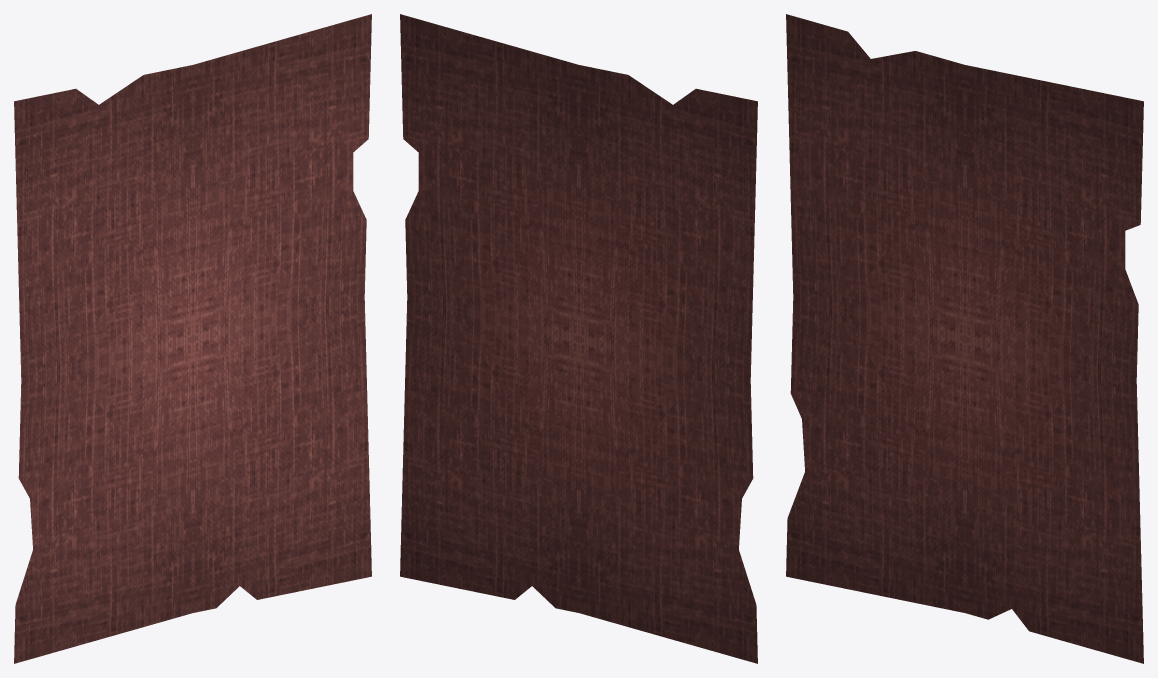
Rendered from Carpet_C.fbx.
The picture shows the model from 3 angles, left to right: view 1: azimuth 30°, elevation 25°; view 2: azimuth 150°, elevation 25°; view 3: azimuth 330°, elevation 25°; orthographic projection.
Visible parts, largest first — view 1: Carpet_C; view 2: Carpet_C; view 3: Carpet_C.
Part boxes in pixels (box(x1,y1,x2,y2)): Carpet_C: box(14, 14, 371, 663); Carpet_C: box(400, 14, 757, 663); Carpet_C: box(786, 14, 1143, 663).
Bounding box in the file's own units: 2.42 × 3.63 × 4.77e-07.
